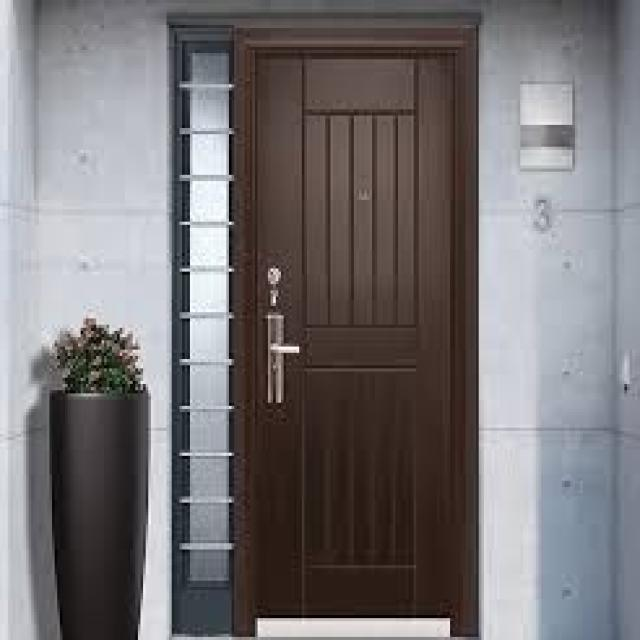door: (232, 27, 478, 636)
